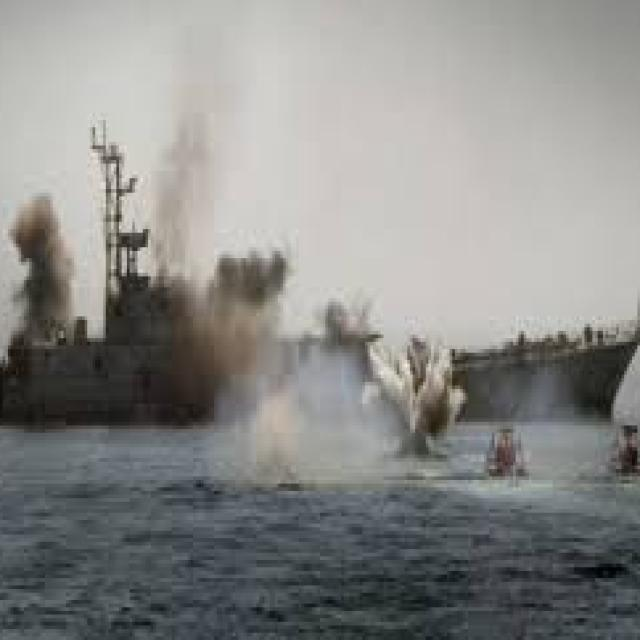navalvessels: (0, 105, 637, 465)
